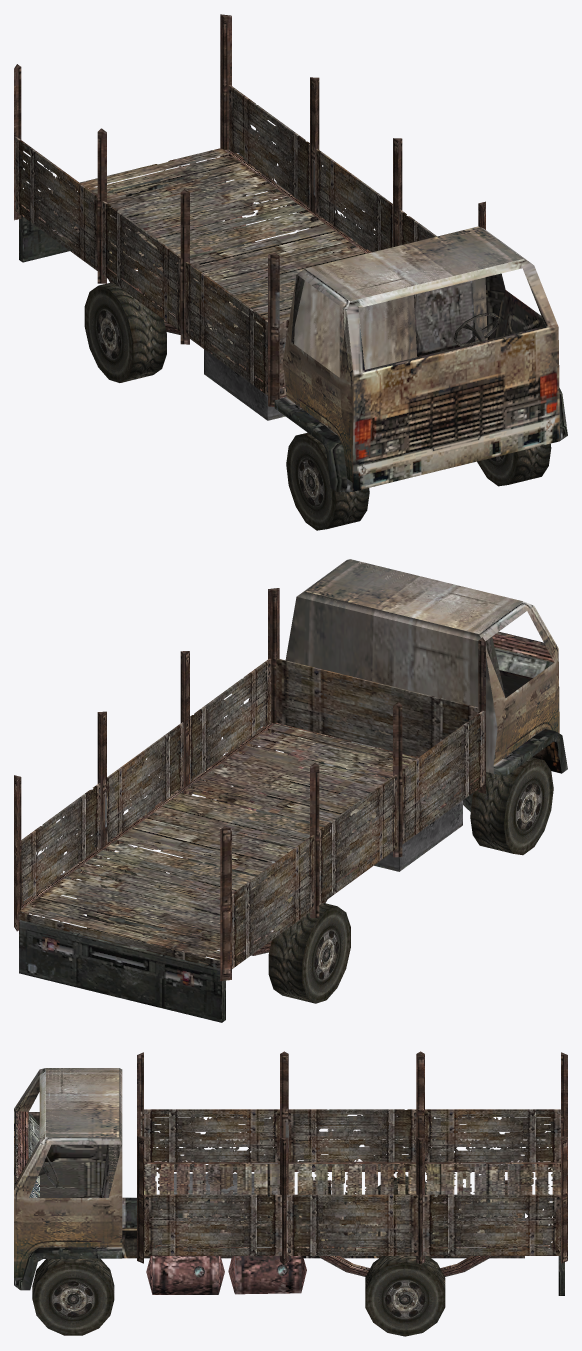
File: etrck1p.glb
3 renders of one model, top to bottom at view 1: azimuth 30°, elevation 25°; view 2: azimuth 150°, elevation 25°; view 3: azimuth 270°, elevation 25°, orthographic. The views are drawn at different scales.
Parts seen in each view (by area): view 1: _etrck1p; view 2: _etrck1p; view 3: _etrck1p.
Part boxes in pixels (x1,y1,x2,y2): _etrck1p: (14, 14, 567, 530); _etrck1p: (14, 559, 567, 1022); _etrck1p: (14, 1051, 567, 1336).
Size of the model in its own units: 3.1 by 3.09 by 7.83.
Materials: 2 (2 with a texture image).
